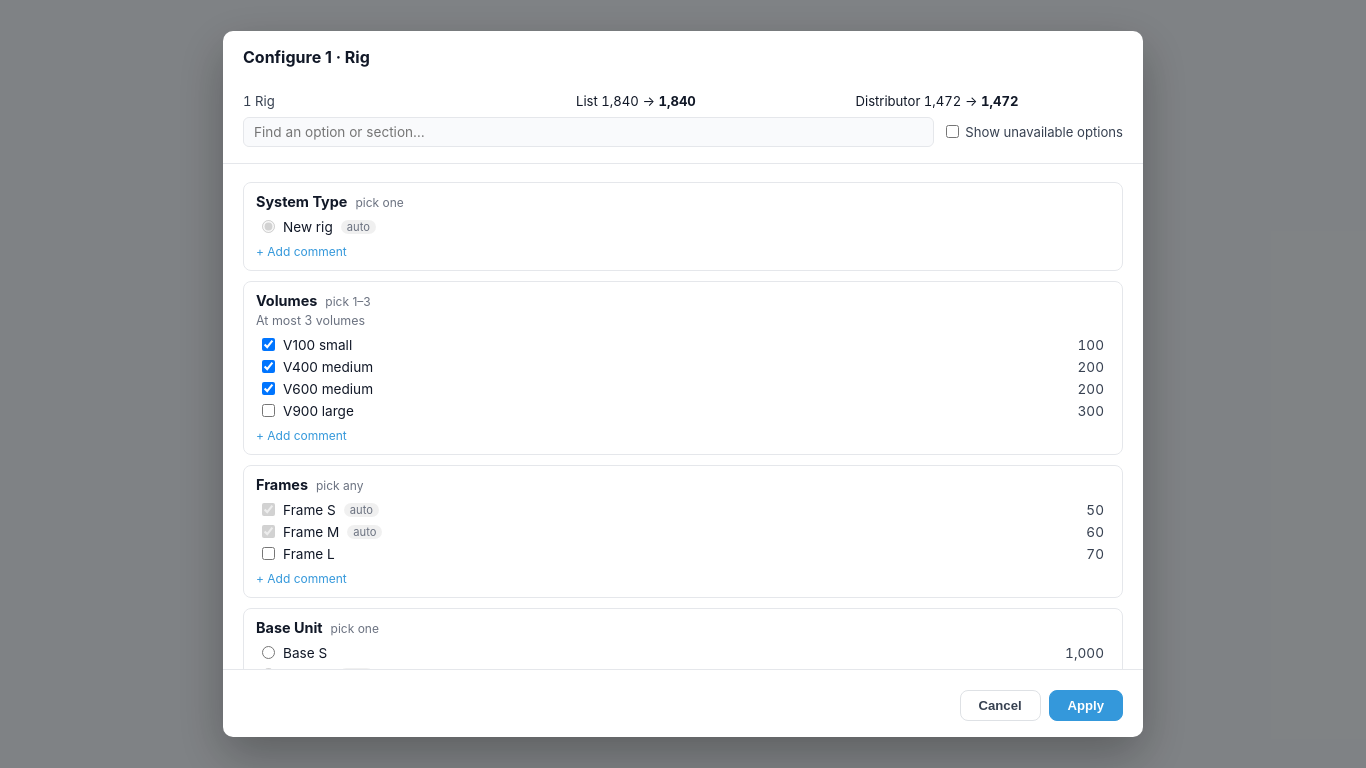
Test: SystemEditorModal › says why a click is refused instead of silently ignoring it
Click the checkbox labelled "V900 large" at (268, 411), box [262,404,275,417]
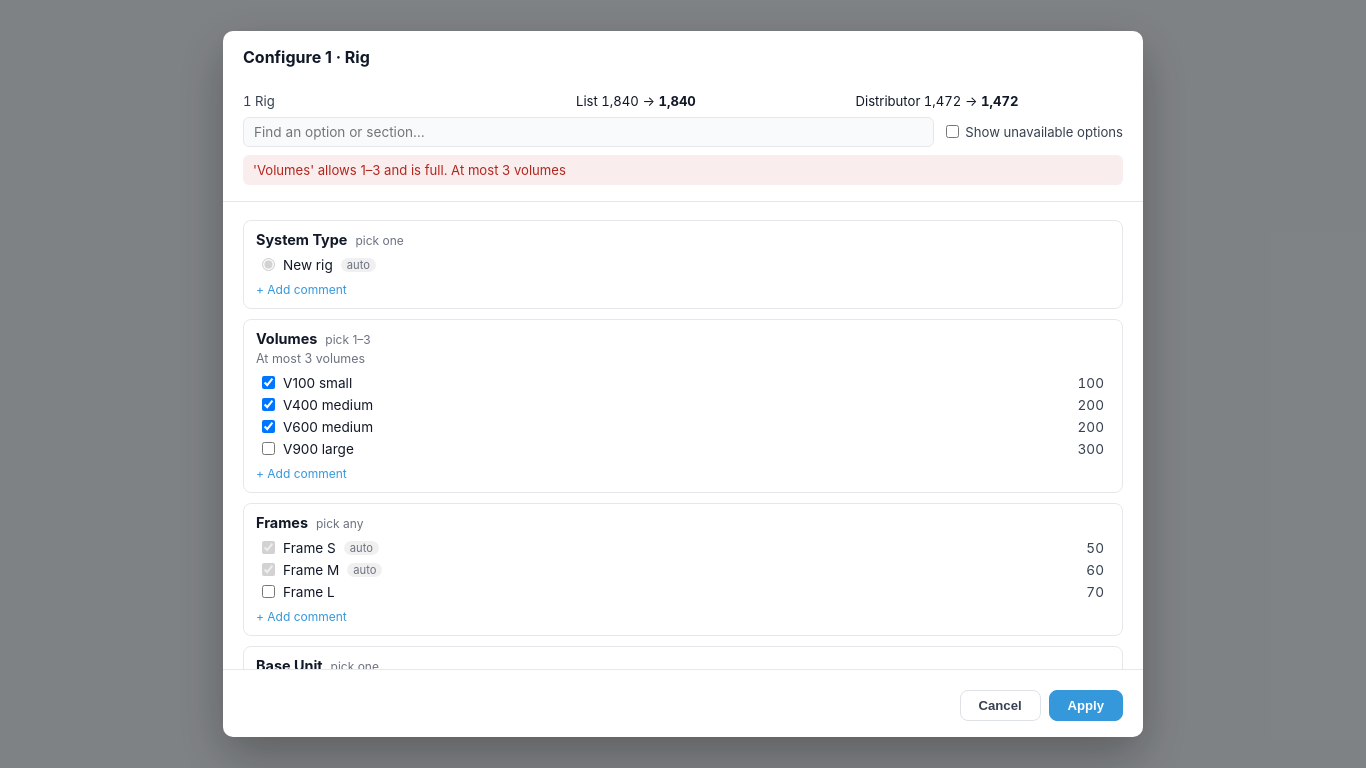
Now the message "'Volumes' allows 1–3 and is full. At most 3 volumes" is shown, box [243,155,1123,185]
